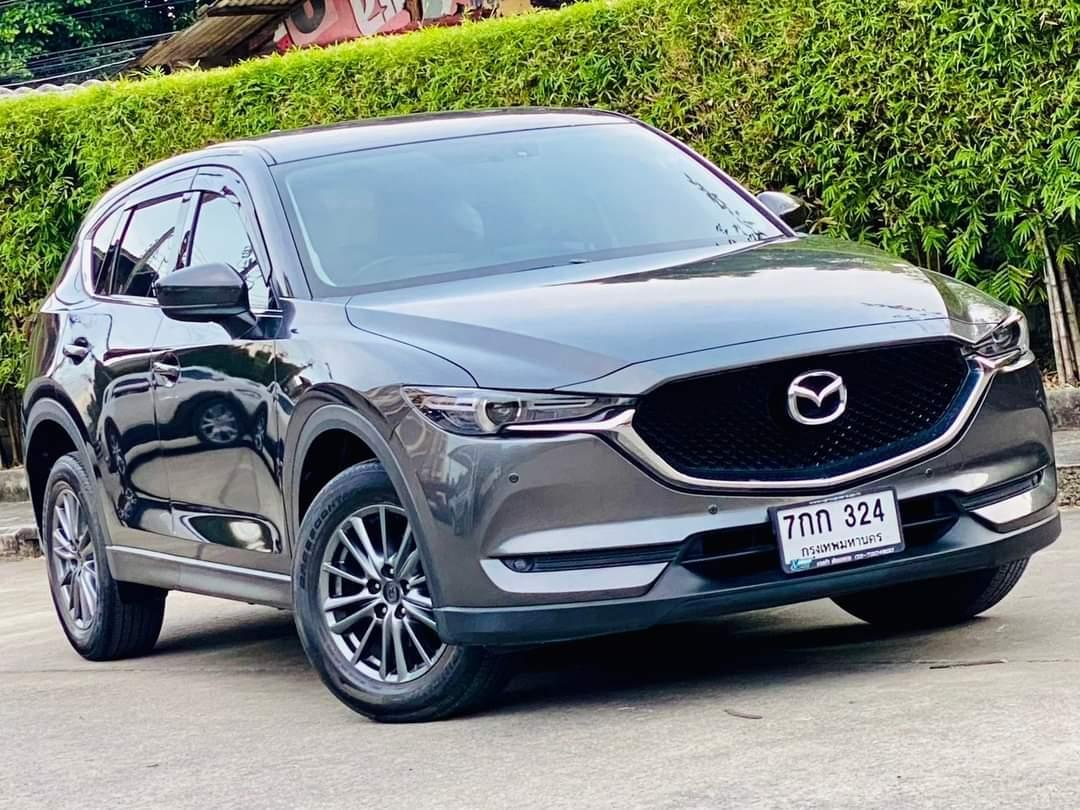license-plate: (770, 486, 904, 575)
